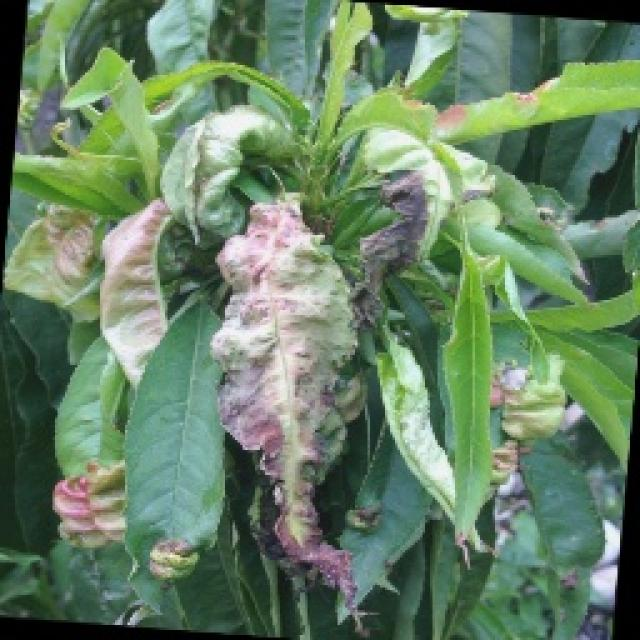peach_leaf_curl: (182, 166, 480, 588)
